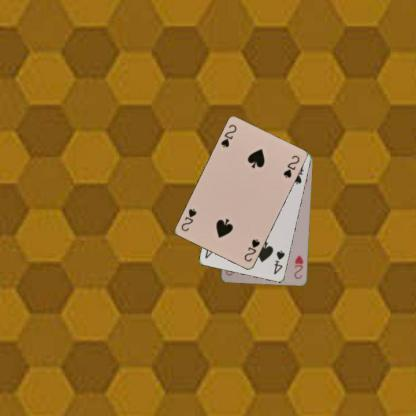2h: (292, 253, 305, 280)
2s: (218, 122, 238, 149), (242, 236, 261, 263)
4s: (271, 248, 286, 276)
